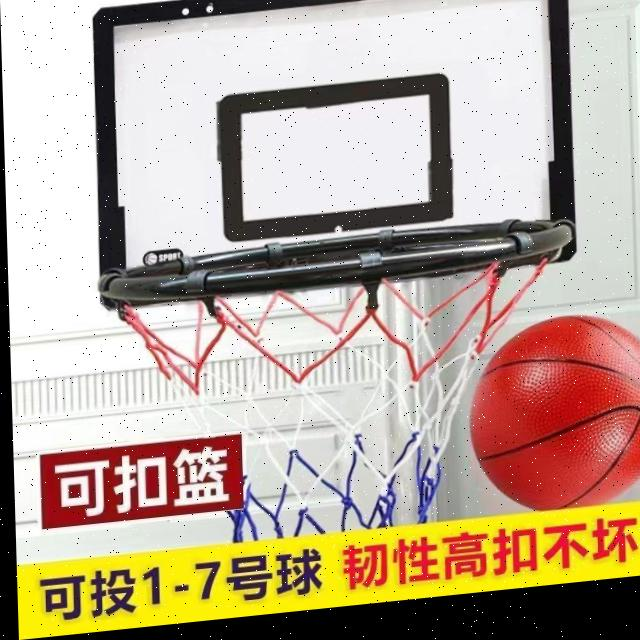basketball: (466, 308, 640, 518)
hoop: (88, 218, 547, 558)
